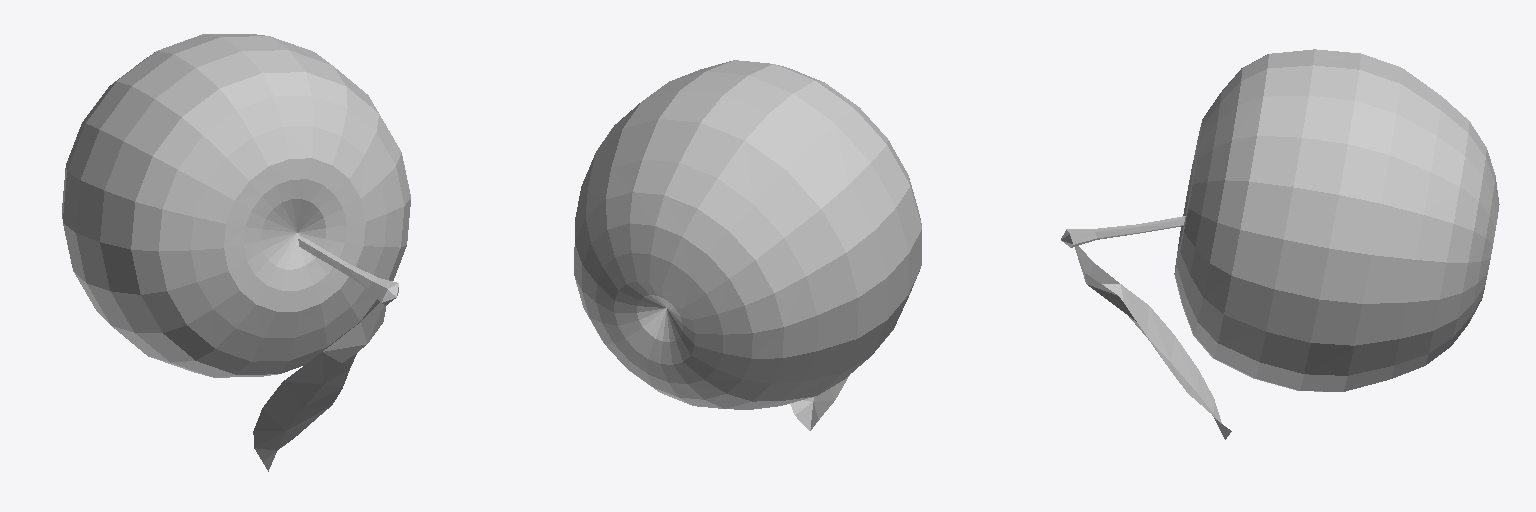
File: apple1.obj
The picture shows the model from 3 angles: view 1: azimuth 30°, elevation 25°; view 2: azimuth 150°, elevation 25°; view 3: azimuth 270°, elevation 25°; orthographic projection.
Visible parts, largest first — view 1: M002004; view 2: M002004; view 3: M002004.
Part boxes in pixels (bbox=[...]): M002004: bbox=[62, 34, 410, 471]; M002004: bbox=[574, 60, 921, 430]; M002004: bbox=[1061, 49, 1499, 439].
Bounding box in the file's own units: 0.1 × 0.1222 × 0.1266.